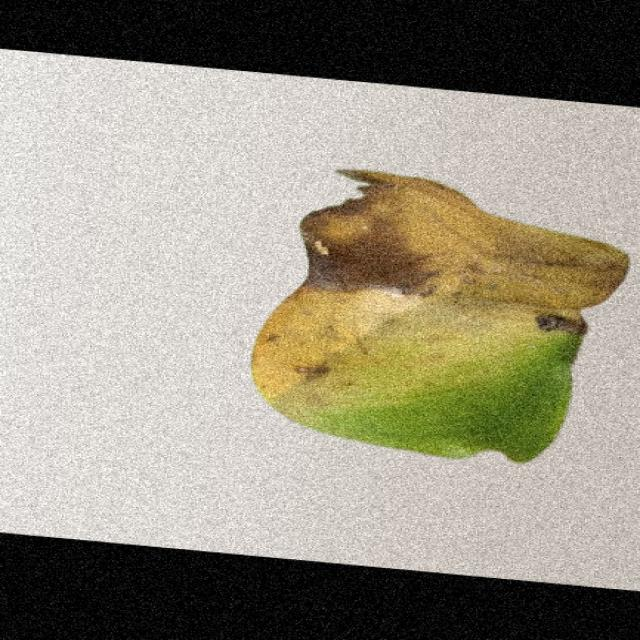daun berpenyakit kuning: (252, 170, 628, 461)
